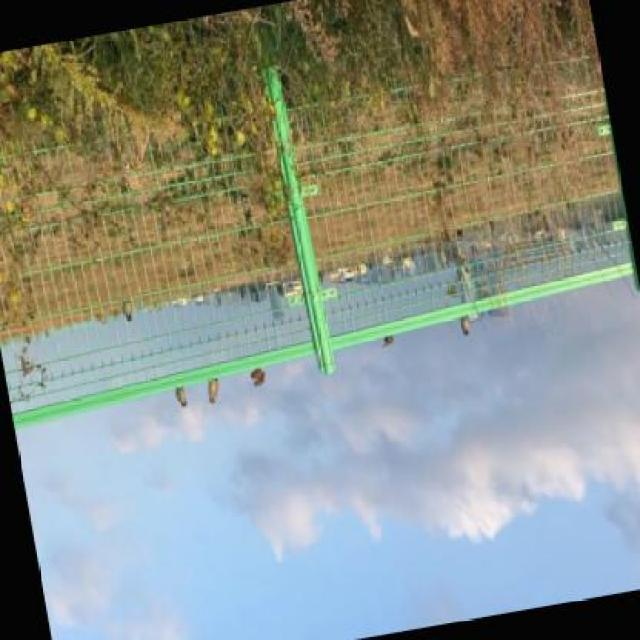Bird: (174, 385, 189, 410), (250, 367, 267, 388), (207, 379, 219, 404), (122, 299, 134, 323), (460, 315, 471, 337), (382, 334, 395, 349)
